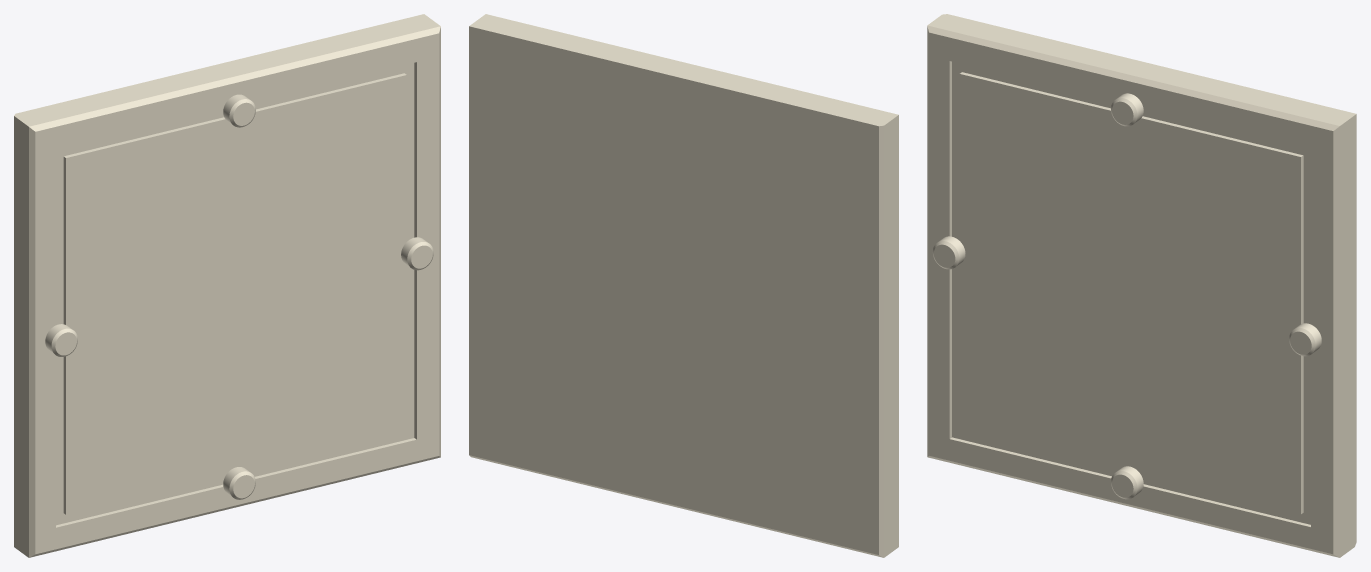
The model's file is section-gradient-sw-ivory@ivory.glb.
3 views of the same model, side by side, from view 1: azimuth 30°, elevation 25°; view 2: azimuth 150°, elevation 25°; view 3: azimuth 330°, elevation 25° (orthographic).
Visible parts, largest first — view 1: geometry_0; view 2: geometry_0; view 3: geometry_0.
Boxes of the visible parts, bbox=[...] form: geometry_0: bbox=[14, 14, 440, 557]; geometry_0: bbox=[469, 14, 898, 557]; geometry_0: bbox=[927, 14, 1356, 557].
Bounding box in the file's own units: 49.8 × 49.8 × 5.6.
